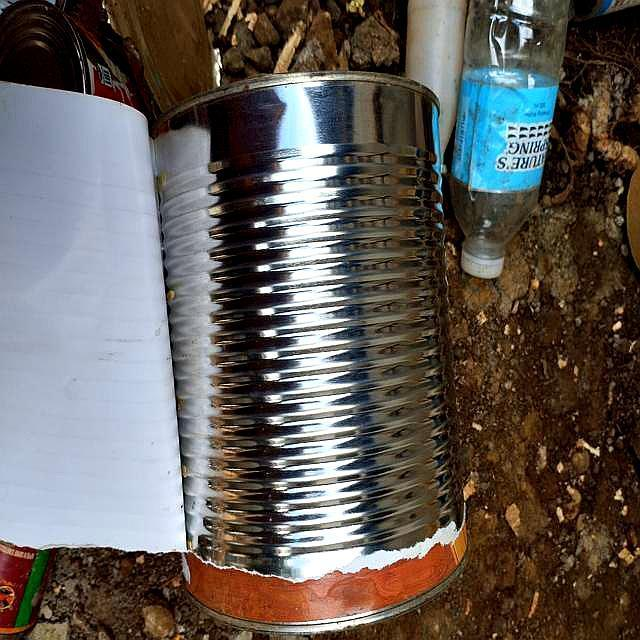Non-biodegradable: (149, 67, 479, 639), (451, 5, 579, 283)
